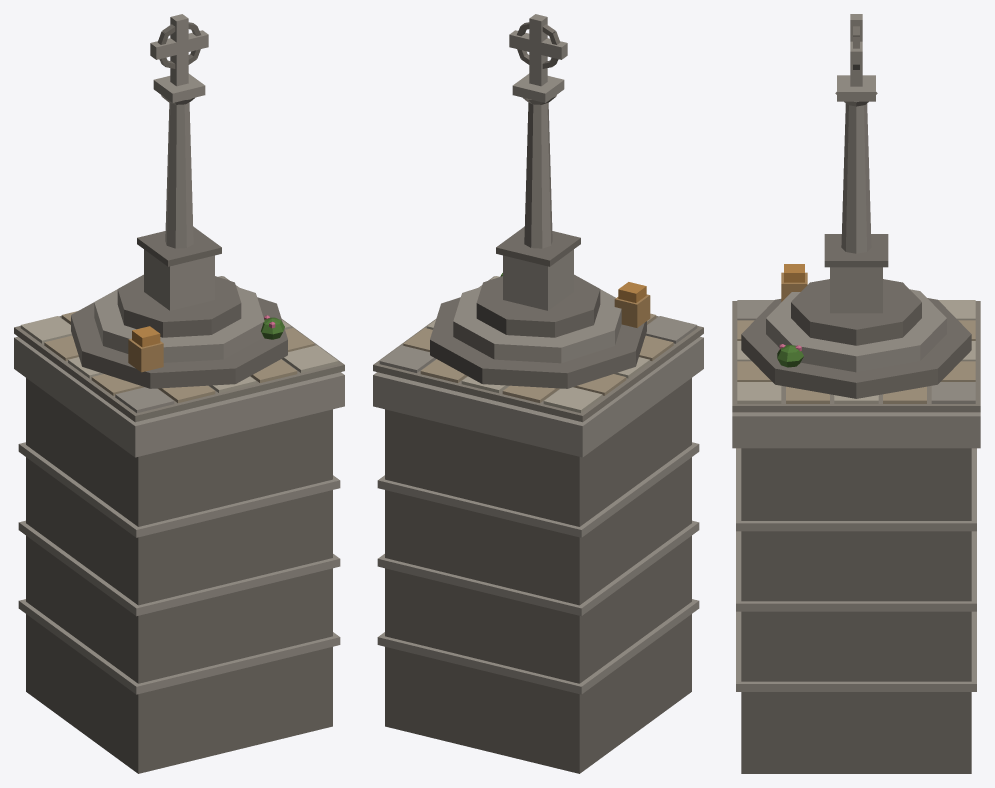
Rendered from decor_market_cross.glb.
3 renders of one model, left to right at view 1: azimuth 30°, elevation 25°; view 2: azimuth 150°, elevation 25°; view 3: azimuth 270°, elevation 25°, orthographic. The views are drawn at different scales.
Visible parts, largest first — view 1: decor_market_cross; view 2: decor_market_cross; view 3: decor_market_cross.
Part boxes in pixels (box(x1,y1,x2,y2)): decor_market_cross: box(14, 14, 344, 773); decor_market_cross: box(373, 14, 703, 773); decor_market_cross: box(732, 14, 980, 773).
Bounding box in the file's own units: 2.8 × 8.82 × 2.8.
